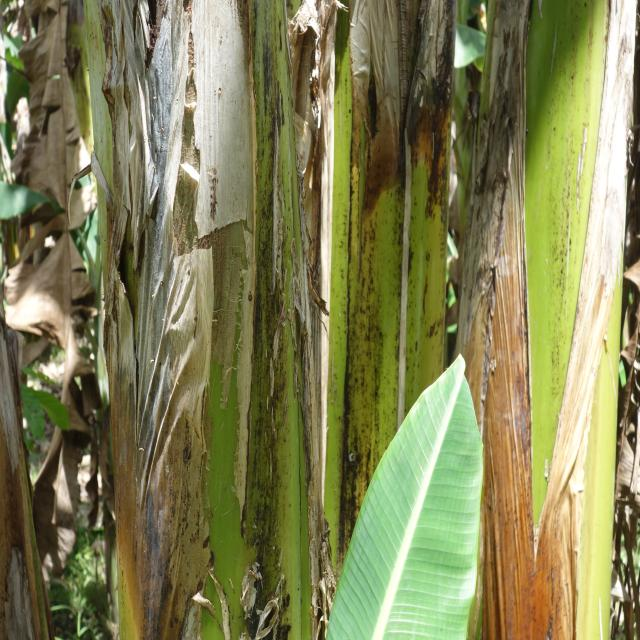Banana-plant: (116, 1, 305, 640), (472, 2, 638, 640), (328, 0, 446, 640)
